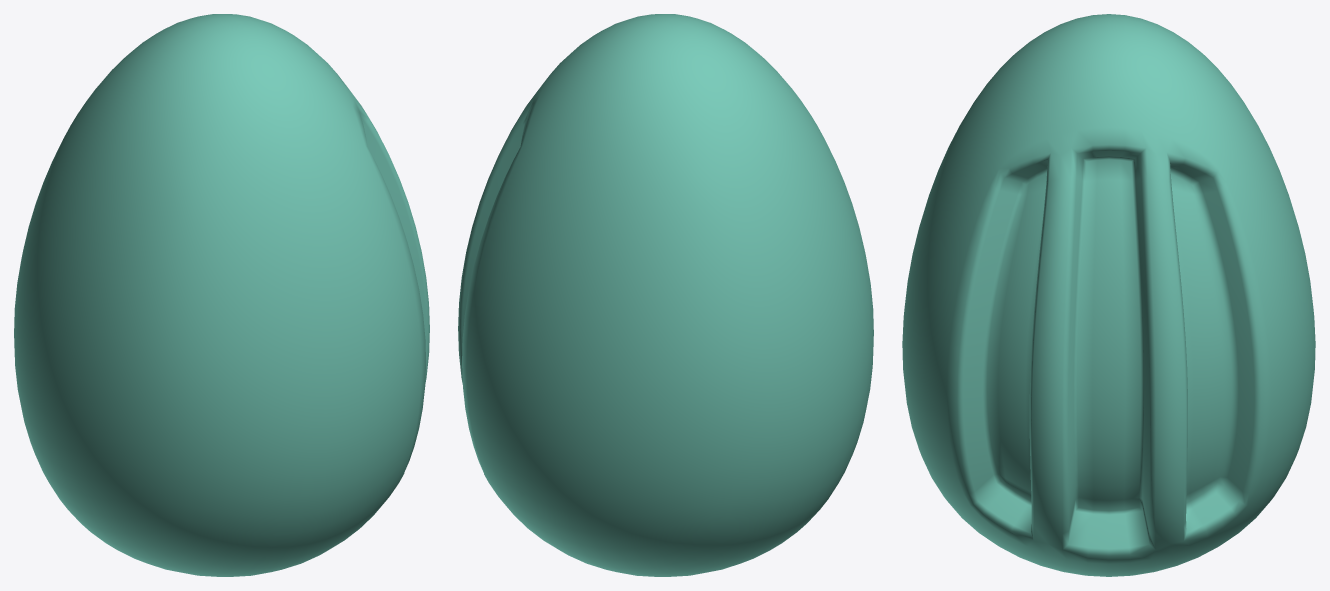
File: Deep Egg 3.fbx
The picture shows the model from 3 angles, left to right: view 1: azimuth 30°, elevation 25°; view 2: azimuth 150°, elevation 25°; view 3: azimuth 270°, elevation 25°; orthographic projection.
Visible parts, largest first — view 1: Slime Egg.004; view 2: Slime Egg.004; view 3: Slime Egg.004.
Part boxes in pixels (left/top/right/bottom): Slime Egg.004: left=14, top=14, right=429, bottom=576; Slime Egg.004: left=458, top=14, right=873, bottom=576; Slime Egg.004: left=902, top=14, right=1315, bottom=576.
Size of the model in its own units: 2.53 by 3.62 by 2.56.
